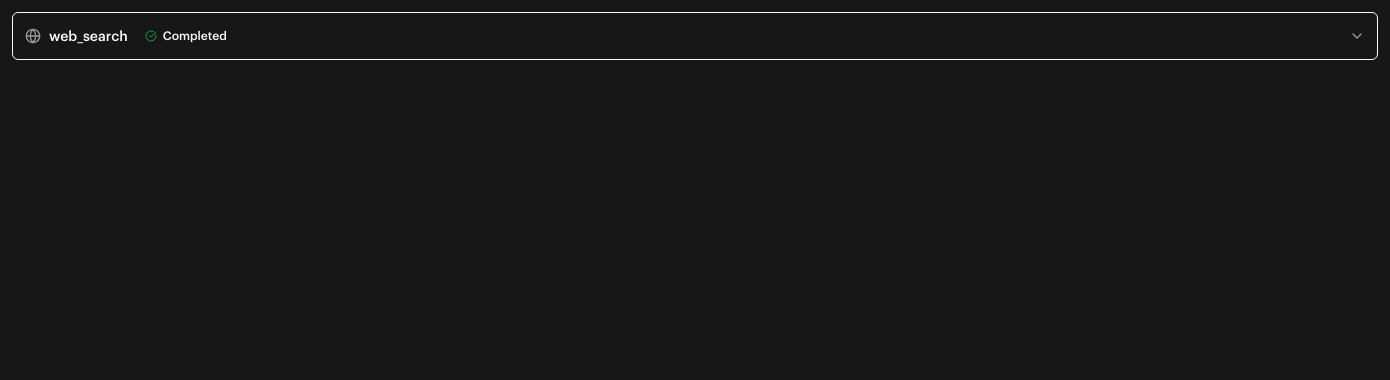
Test case: v2 ToolCall › renders completed tool calls collapsed by default
Expected: the text "Completed" is shown, [145,28,227,43]
Expected: the text "Result" is not shown
Click the text "web_search" at (88, 36), box [49,26,128,46]
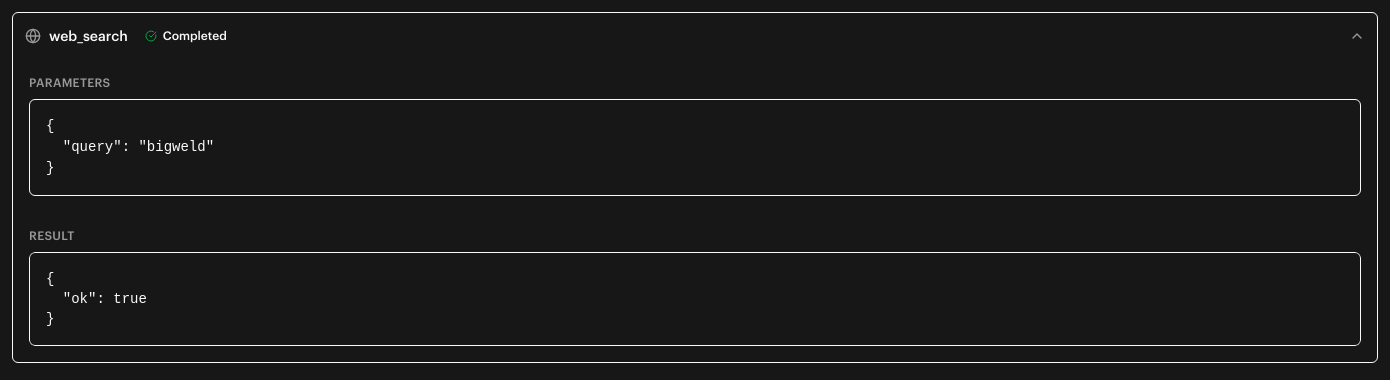
Result: the heading "Result" is shown at [29,228,75,243]
